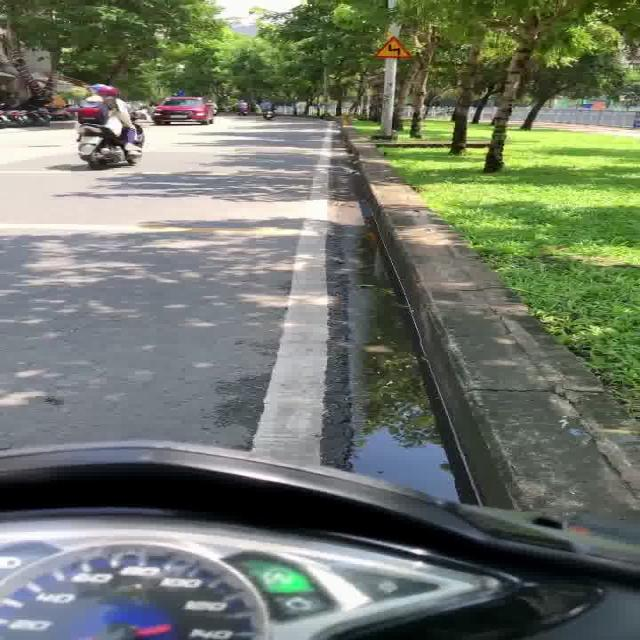Bien bao nhieu cho ngoat nguy hiem lien tiep: (372, 34, 418, 61)
